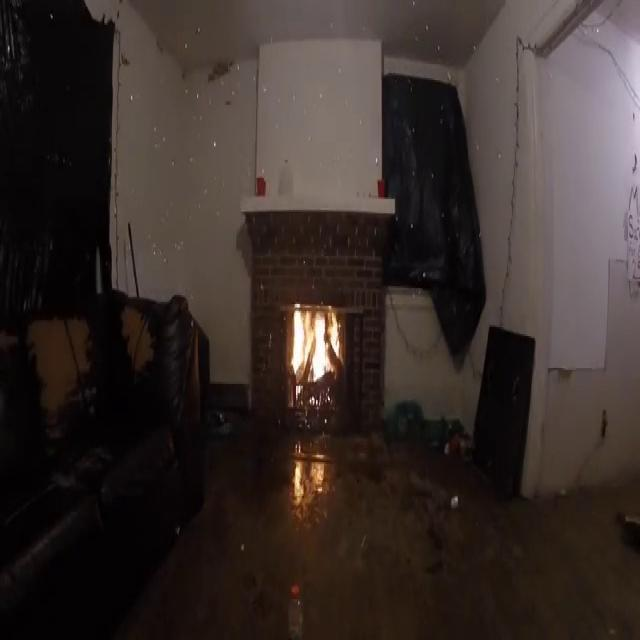fire: (282, 299, 348, 403)
